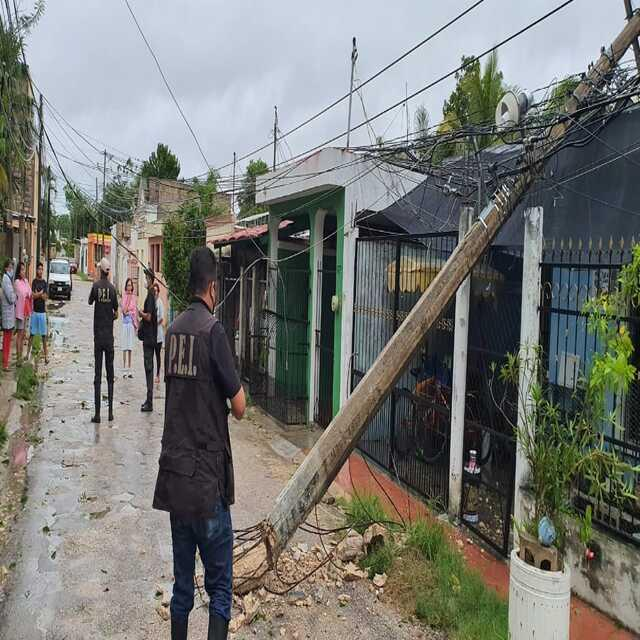Inclined Pole: (192, 4, 640, 603)
